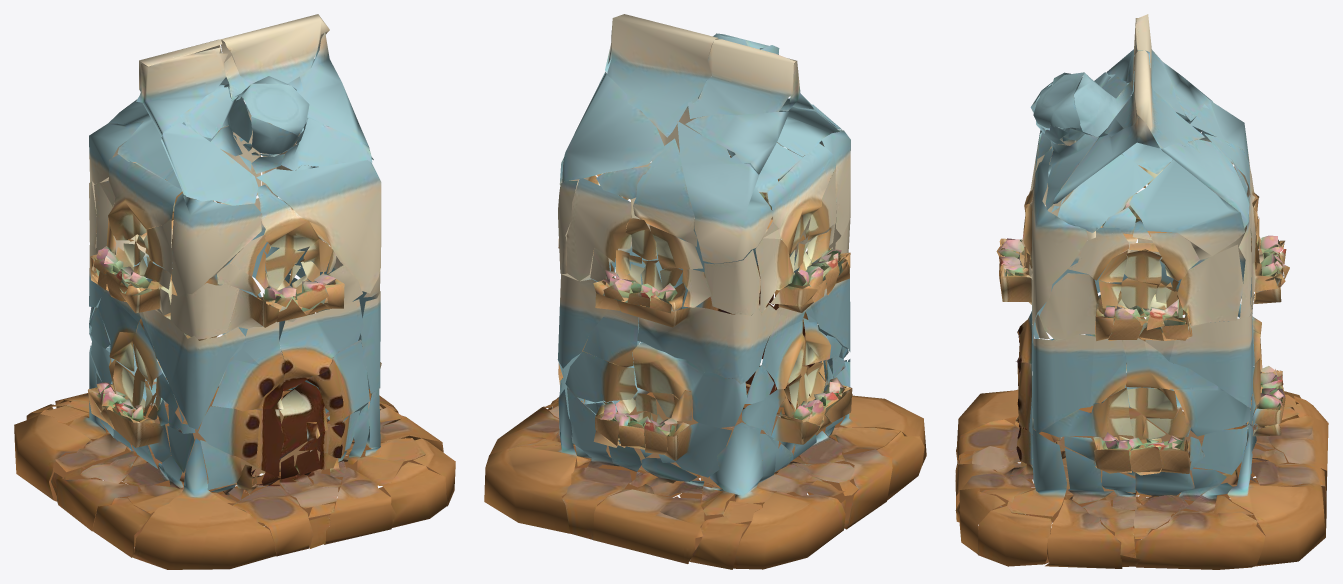
File: milk-carton-apartments.glb
3 views of the same model, side by side, from view 1: azimuth 30°, elevation 25°; view 2: azimuth 150°, elevation 25°; view 3: azimuth 270°, elevation 25° (orthographic).
Parts seen in each view (by area): view 1: Mesh_0; view 2: Mesh_0; view 3: Mesh_0.
Boxes of the visible parts, x1,y1,x2,y2 form: Mesh_0: (14,14,455,569); Mesh_0: (484,14,926,569); Mesh_0: (955,14,1328,569).
Size of the model in its own units: 1.46 by 1.89 by 1.46.
1 material, 1 textured.
